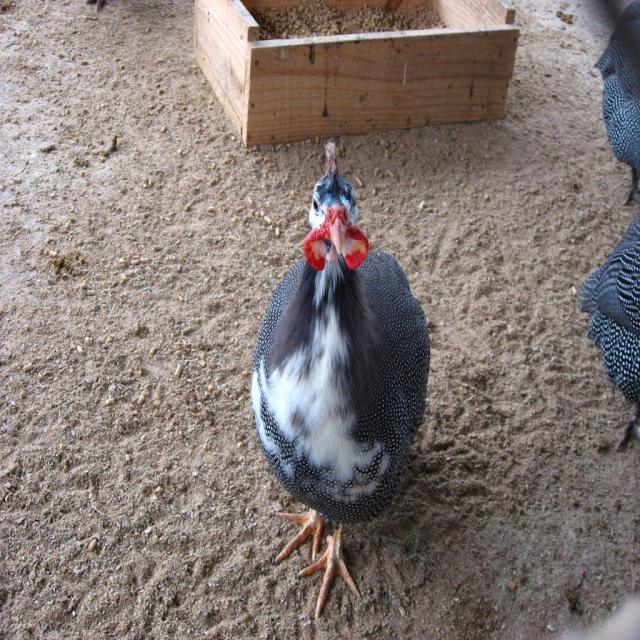Chicken: (251, 165, 439, 594)
